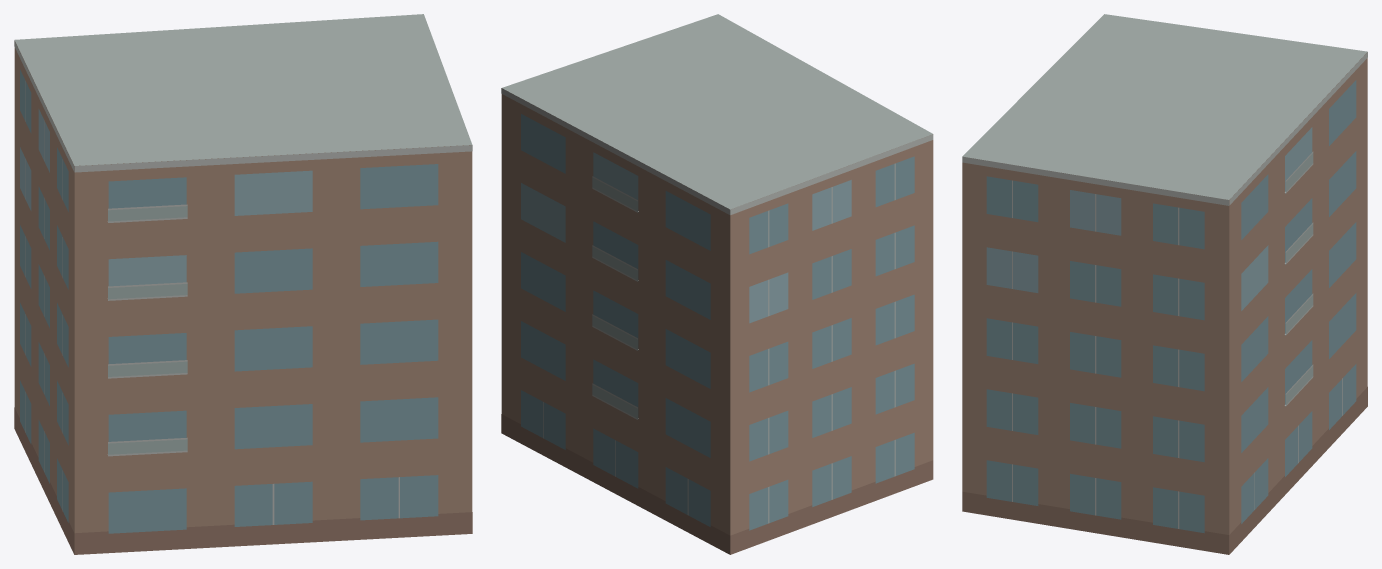
Rendered from survey-upis-32505030.glb.
The picture shows the model from 3 angles, left to right: view 1: azimuth 30°, elevation 25°; view 2: azimuth 150°, elevation 25°; view 3: azimuth 270°, elevation 25°; orthographic projection. The views are drawn at different scales.
Parts seen in each view (by area): view 1: survey-upis-32505030.tmp; view 2: survey-upis-32505030.tmp; view 3: survey-upis-32505030.tmp.
Part boxes in pixels (bbox=[...]): survey-upis-32505030.tmp: bbox=[14, 14, 472, 554]; survey-upis-32505030.tmp: bbox=[501, 14, 933, 554]; survey-upis-32505030.tmp: bbox=[962, 14, 1367, 554].
Bounding box in the file's own units: 16.43 × 14.6 × 15.13.
